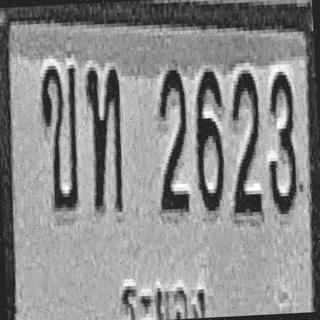A02: (39, 61, 83, 212)
A23: (85, 64, 126, 212)
N02: (227, 68, 264, 215), (154, 66, 190, 213)
N03: (263, 68, 299, 215)
N06: (192, 66, 227, 213)
P53: (121, 274, 208, 320)
